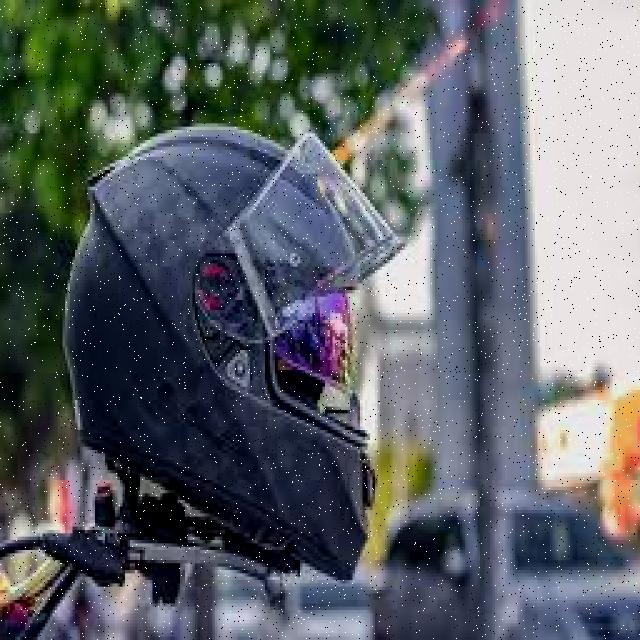with-helmet: (65, 106, 410, 596)
